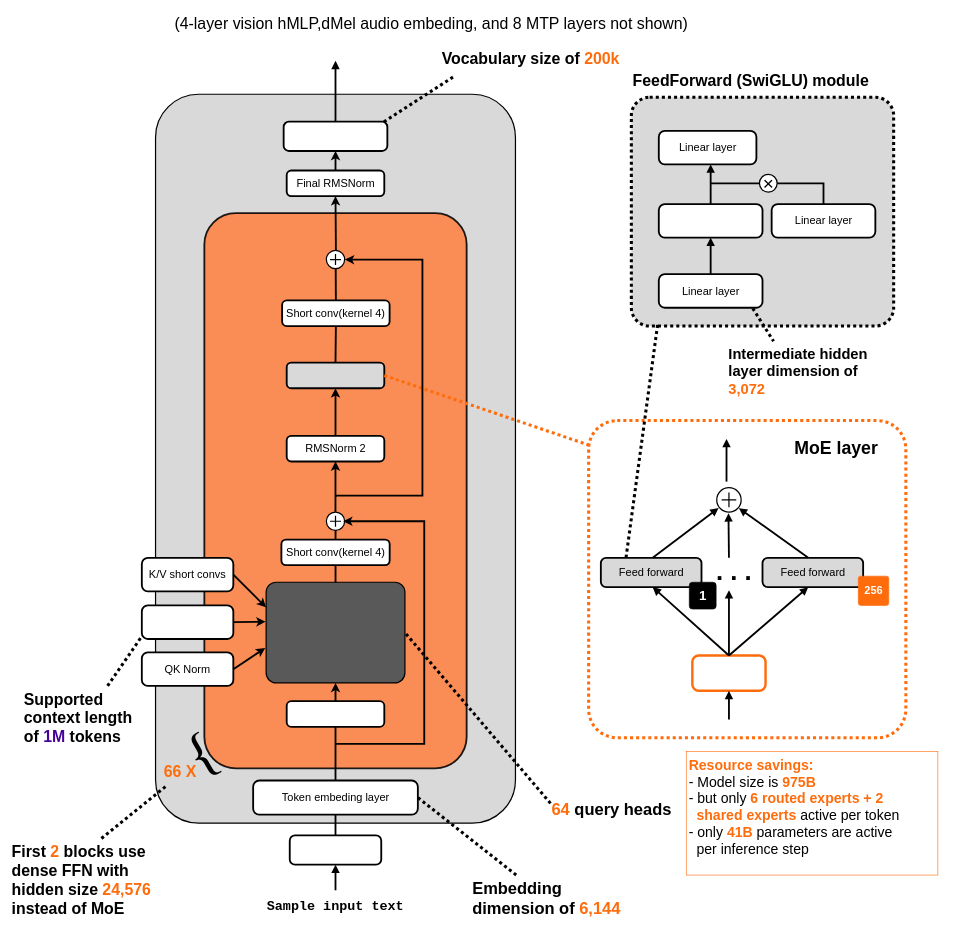
This 977x941 diagram has some shape labels left out. Each missing label, with the box of its shape:
Grouped Query Attention( GQA ) + Sliding Window Attention ( SWA ) in 5:1 ratio: (265, 581, 405, 683)
Learned relative-position bias: (141, 604, 234, 640)
Linear output layer: (282, 120, 388, 152)
MoE: (285, 361, 385, 389)
RMSNorm 1: (285, 700, 385, 727)
Router: (691, 654, 766, 692)
SiLU activation: (658, 203, 763, 238)
Tokenized text: (289, 834, 382, 865)
